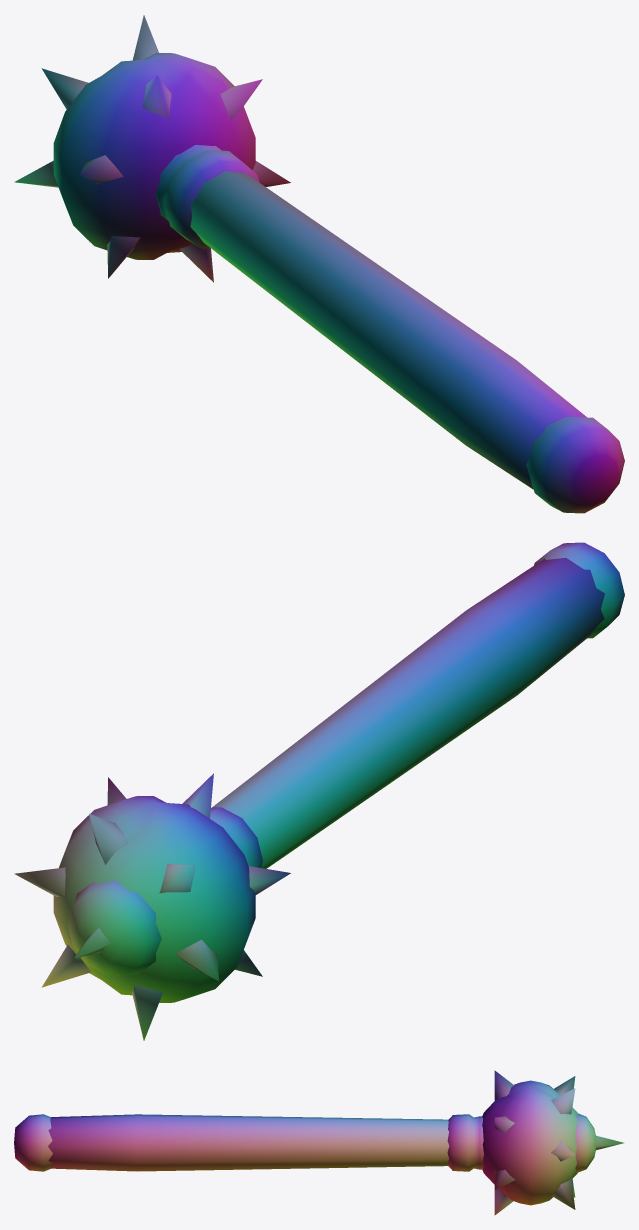
File: SM_MonWeapon_Mace.fbx
3 renders of one model, top to bottom at view 1: azimuth 30°, elevation 25°; view 2: azimuth 150°, elevation 25°; view 3: azimuth 270°, elevation 25°, orthographic. The views are drawn at different scales.
Parts seen in each view (by area): view 1: SM_MonWeapon_Mace; view 2: SM_MonWeapon_Mace; view 3: SM_MonWeapon_Mace.
Part boxes in pixels (left/top/right/bottom): SM_MonWeapon_Mace: left=14, top=15, right=624, bottom=513; SM_MonWeapon_Mace: left=14, top=542, right=624, bottom=1040; SM_MonWeapon_Mace: left=14, top=1070, right=623, bottom=1215.
Bounding box in the file's own units: 0.1945 × 0.1945 × 0.8324.
